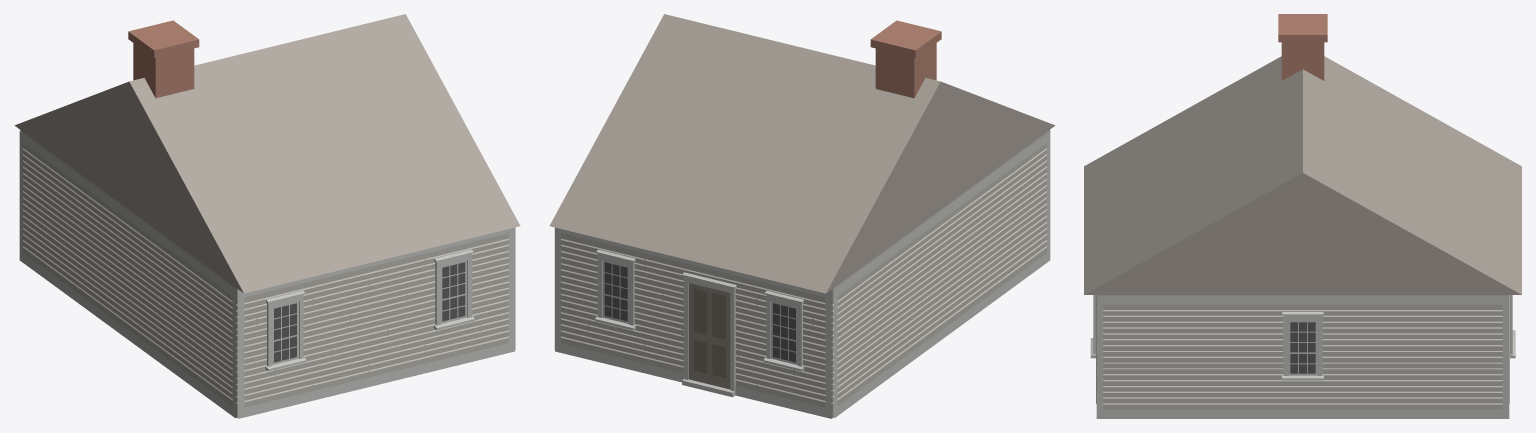
The model's file is recon_1835_north_d4_017__inferred_1835.glb.
The picture shows the model from 3 angles, left to right: view 1: azimuth 30°, elevation 25°; view 2: azimuth 150°, elevation 25°; view 3: azimuth 270°, elevation 25°; orthographic projection. The views are drawn at different scales.
Visible parts, largest first — view 1: recon_1835_north_d4_017__inferred_1835; view 2: recon_1835_north_d4_017__inferred_1835; view 3: recon_1835_north_d4_017__inferred_1835.
Part boxes in pixels (x1,y1,x2,y2): recon_1835_north_d4_017__inferred_1835: [14, 14, 520, 418]; recon_1835_north_d4_017__inferred_1835: [549, 14, 1055, 418]; recon_1835_north_d4_017__inferred_1835: [1084, 14, 1521, 418].
Size of the model in its own units: 6.16 by 6.13 by 8.64.
